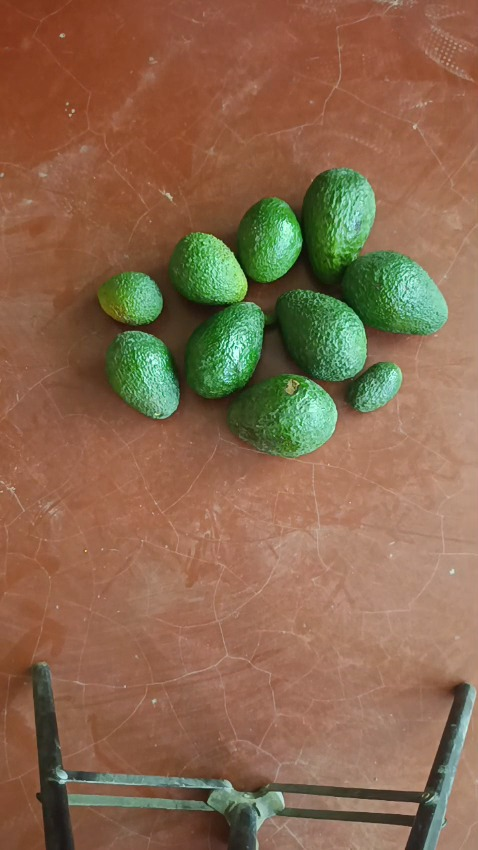Primera: (340, 250, 448, 335), (227, 375, 338, 455), (301, 168, 375, 284), (275, 289, 368, 381), (184, 302, 265, 399)
Segunda: (104, 330, 182, 419), (167, 231, 247, 305), (236, 197, 303, 284)
Tercera: (97, 271, 164, 327), (345, 361, 402, 412)
